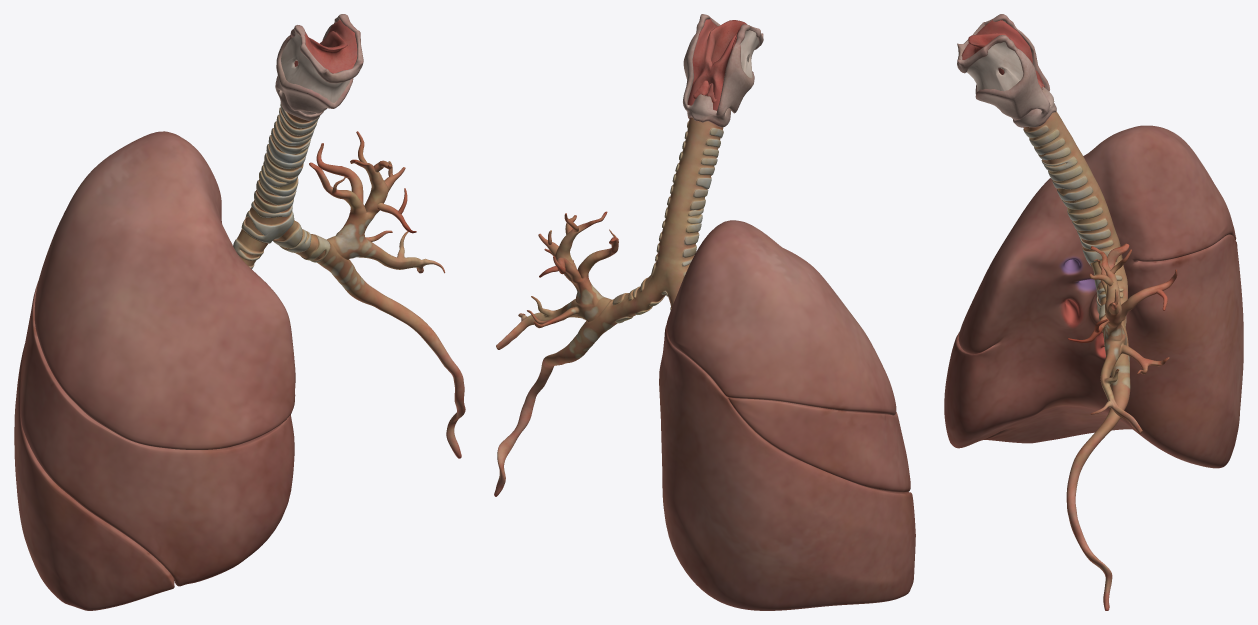
The model's file is Lung_with_Holes_Final.fbx.
The picture shows the model from 3 angles, left to right: view 1: azimuth 30°, elevation 25°; view 2: azimuth 150°, elevation 25°; view 3: azimuth 270°, elevation 25°; orthographic projection. The views are drawn at different scales.
Visible parts, largest first — view 1: Respiratoy_Lung_Geo_Right, Respiratoy_Trachea_Geo, Respiratoy_Thyroid_Cartliage_Geo, Respiratoy_Thyroid_Membrane_Geo, Respiratoy_Epiglotis_Geo; view 2: Respiratoy_Lung_Geo_Right, Respiratoy_Trachea_Geo, Respiratoy_Thyroid_Cartliage_Geo, Respiratoy_Epiglotis_Geo, Respiratoy_Thyroid_Membrane_Geo; view 3: Respiratoy_Lung_Geo_Right, Respiratoy_Trachea_Geo, Respiratoy_Thyroid_Cartliage_Geo, Respiratoy_Thyroid_Membrane_Geo, Respiratoy_Epiglotis_Geo.
Boxes of the visible parts, x1=… form: Respiratoy_Lung_Geo_Right: x1=14, y1=131, x2=295, y2=610; Respiratoy_Trachea_Geo: x1=233, y1=102, x2=465, y2=458; Respiratoy_Thyroid_Cartliage_Geo: x1=275, y1=14, x2=363, y2=120; Respiratoy_Thyroid_Membrane_Geo: x1=281, y1=31, x2=350, y2=102; Respiratoy_Epiglotis_Geo: x1=294, y1=19, x2=357, y2=73; Respiratoy_Lung_Geo_Right: x1=659, y1=220, x2=915, y2=610; Respiratoy_Trachea_Geo: x1=494, y1=117, x2=723, y2=496; Respiratoy_Thyroid_Cartliage_Geo: x1=683, y1=14, x2=763, y2=127; Respiratoy_Epiglotis_Geo: x1=687, y1=18, x2=746, y2=110; Respiratoy_Thyroid_Membrane_Geo: x1=704, y1=20, x2=758, y2=77; Respiratoy_Lung_Geo_Right: x1=944, y1=125, x2=1243, y2=468; Respiratoy_Trachea_Geo: x1=1023, y1=111, x2=1177, y2=610; Respiratoy_Thyroid_Cartliage_Geo: x1=957, y1=14, x2=1056, y2=127; Respiratoy_Thyroid_Membrane_Geo: x1=967, y1=21, x2=1023, y2=91; Respiratoy_Epiglotis_Geo: x1=961, y1=20, x2=1043, y2=83.
Size of the model in its own units: 27.24 by 32.89 by 17.23.
3 materials, 3 textured.
